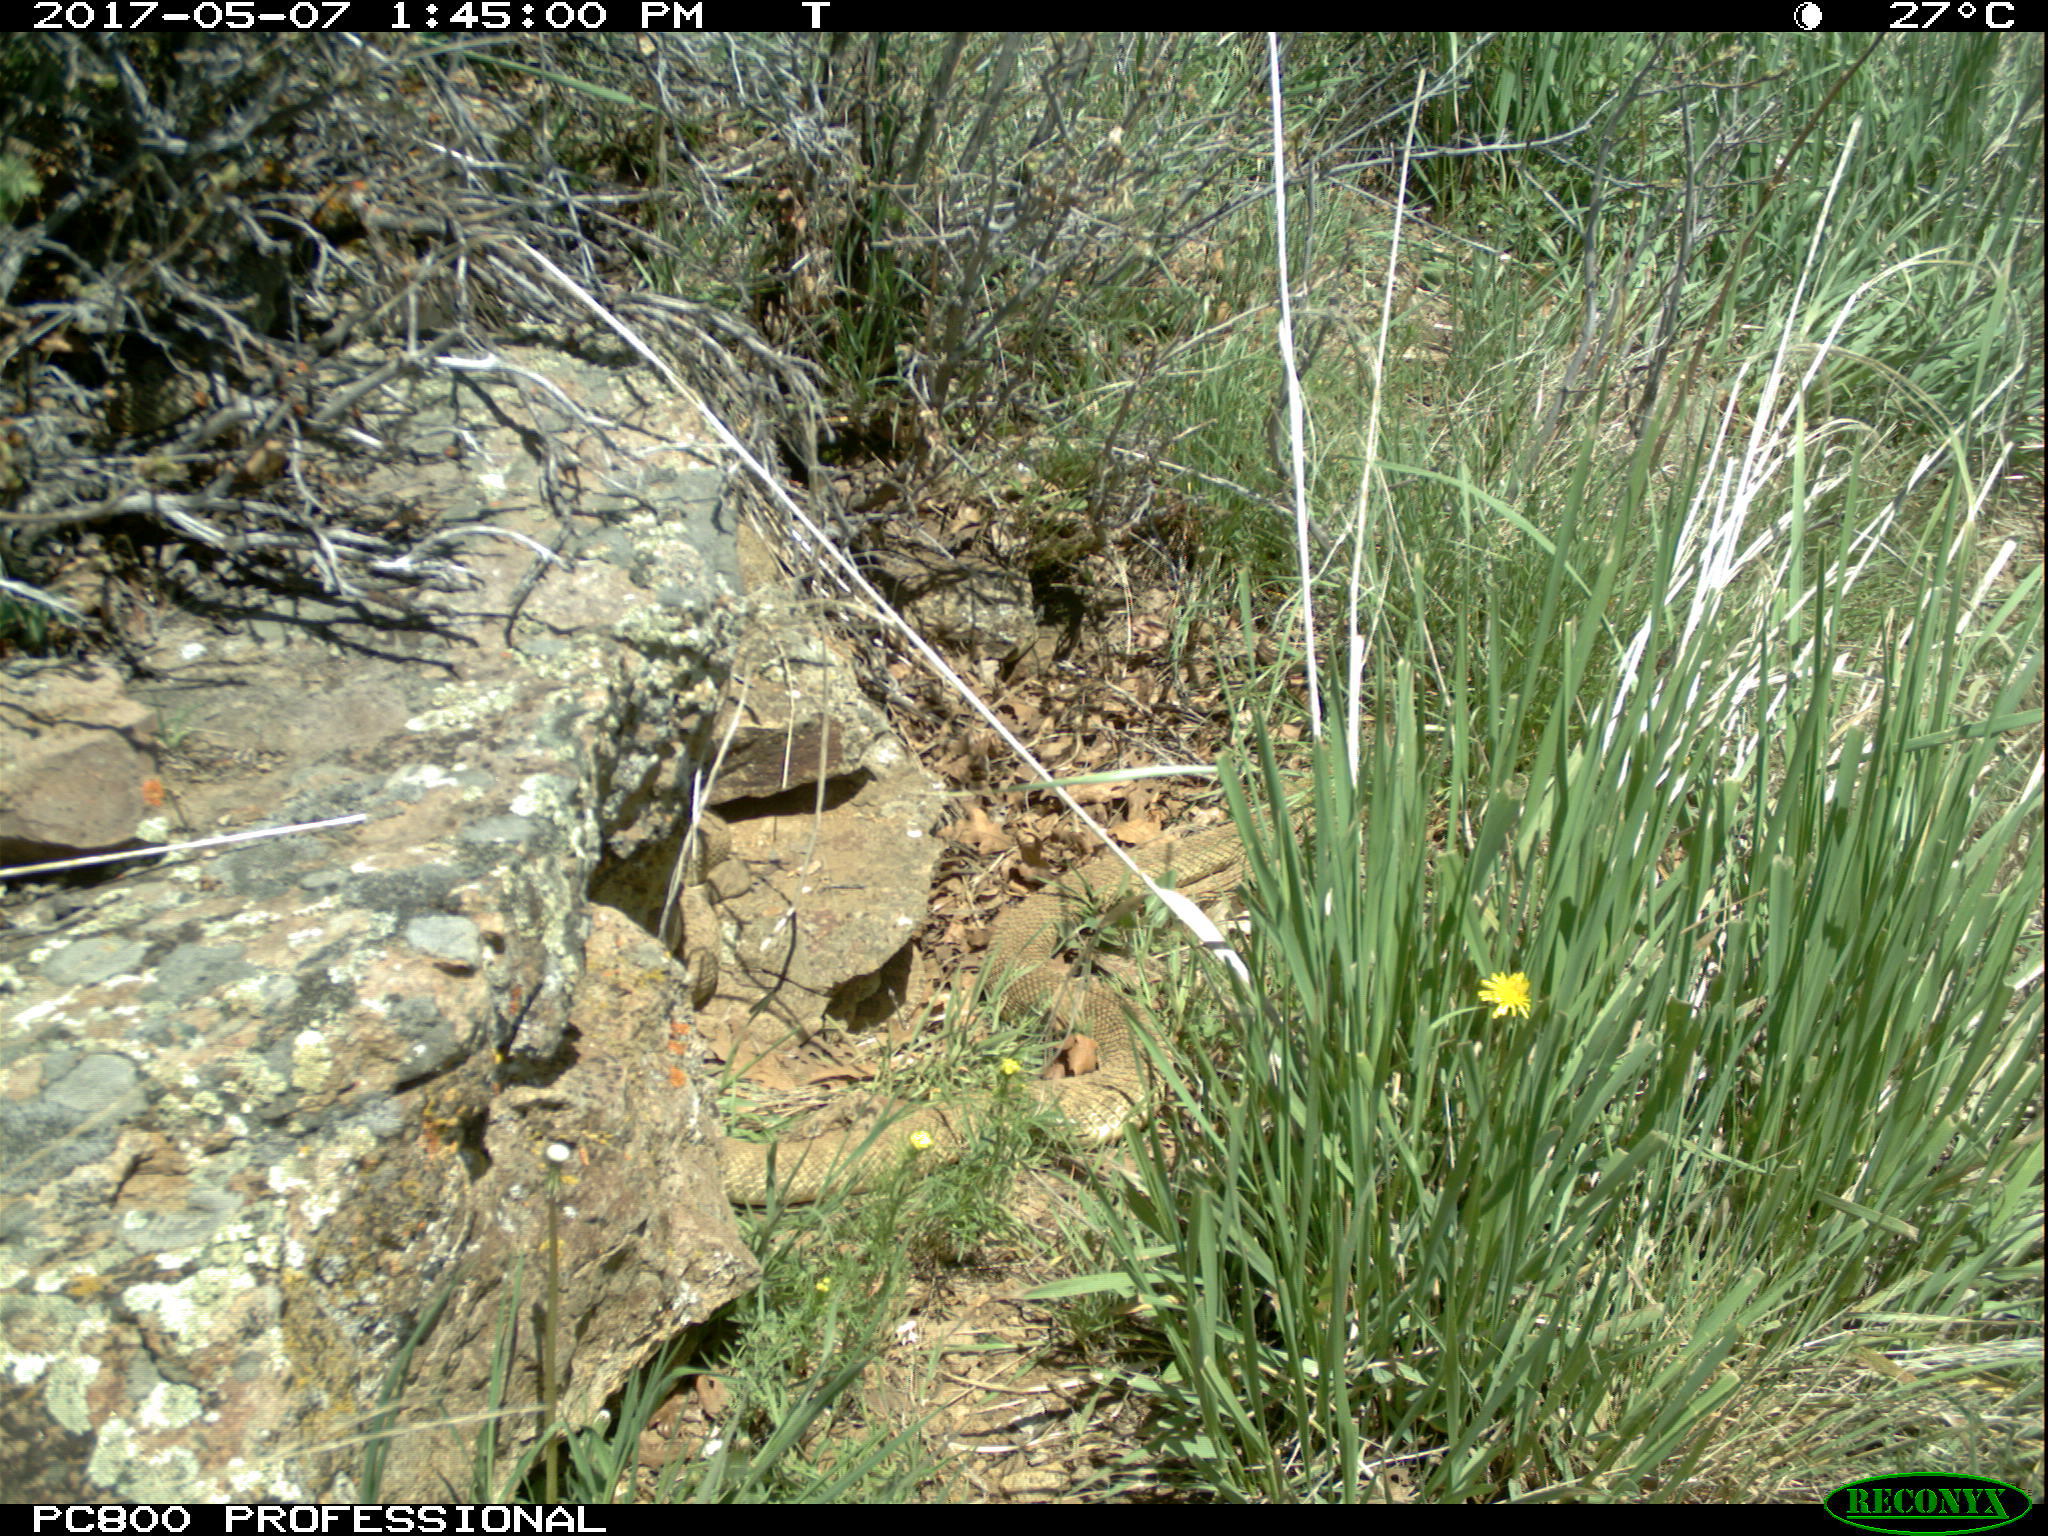snake: (727, 1049, 1176, 1202), (980, 852, 1201, 1141), (614, 797, 763, 1002), (1118, 792, 1300, 904)
